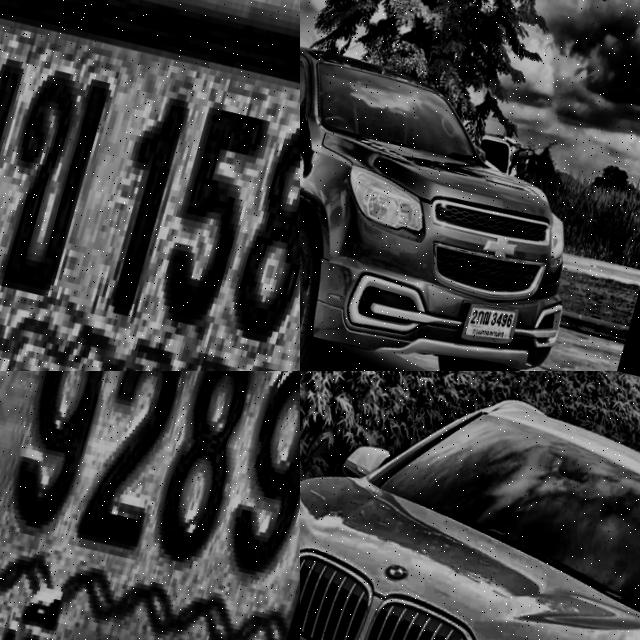license-plate: (0, 0, 300, 371), (0, 371, 300, 640), (458, 294, 524, 353)
